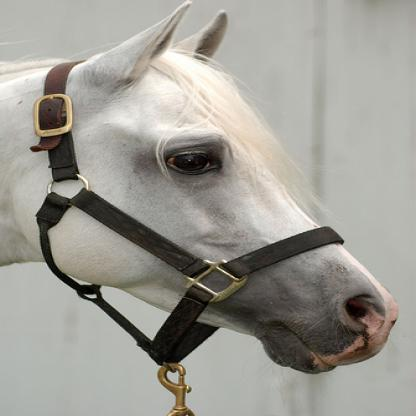horse: (0, 0, 401, 375)
